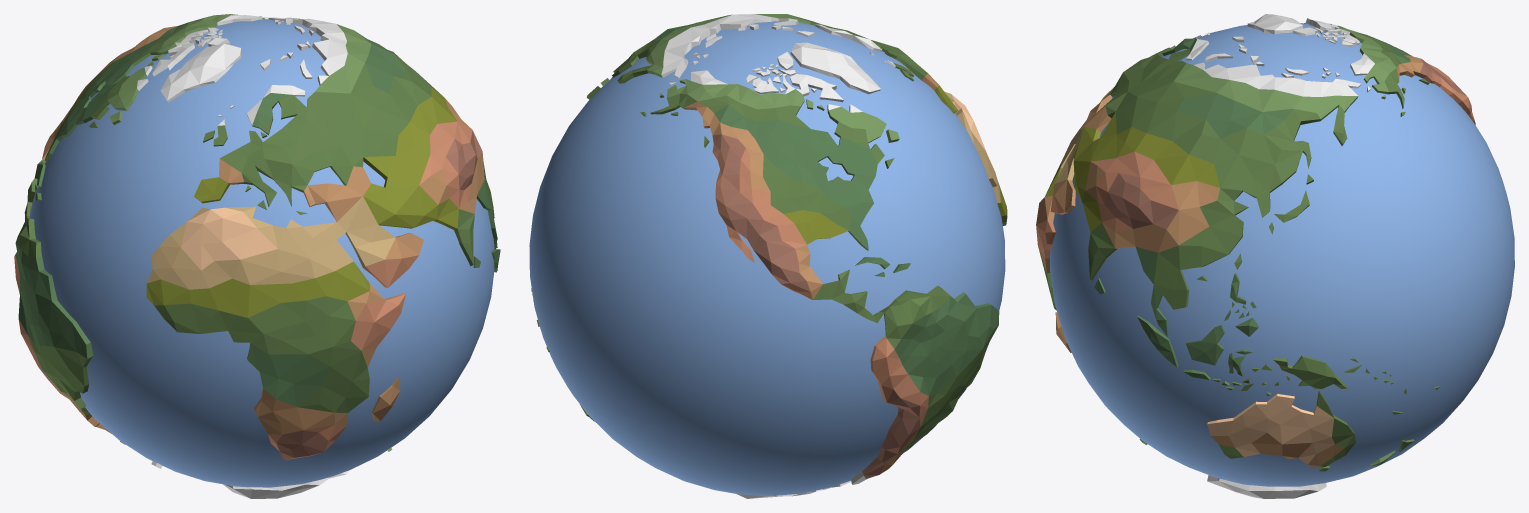
File: Earth.fbx
3 views of the same model, side by side, from view 1: azimuth 30°, elevation 25°; view 2: azimuth 150°, elevation 25°; view 3: azimuth 270°, elevation 25° (orthographic). The views are drawn at different scales.
Parts seen in each view (by area): view 1: PlanetEarth; view 2: PlanetEarth; view 3: PlanetEarth.
Boxes of the visible parts, <box> form: PlanetEarth: <box>14,14,500,498</box>; PlanetEarth: <box>529,14,1007,498</box>; PlanetEarth: <box>1036,14,1514,498</box>.
Size of the model in its own units: 5.83 by 5.91 by 5.84.
